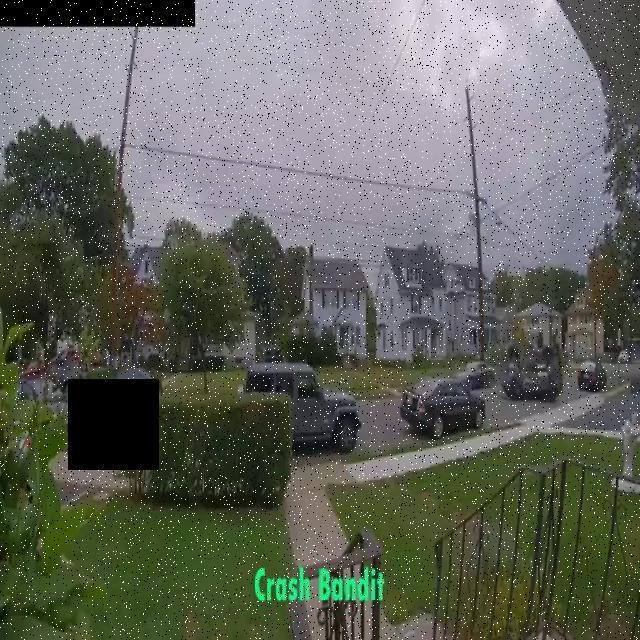accident: (500, 336, 566, 414)
